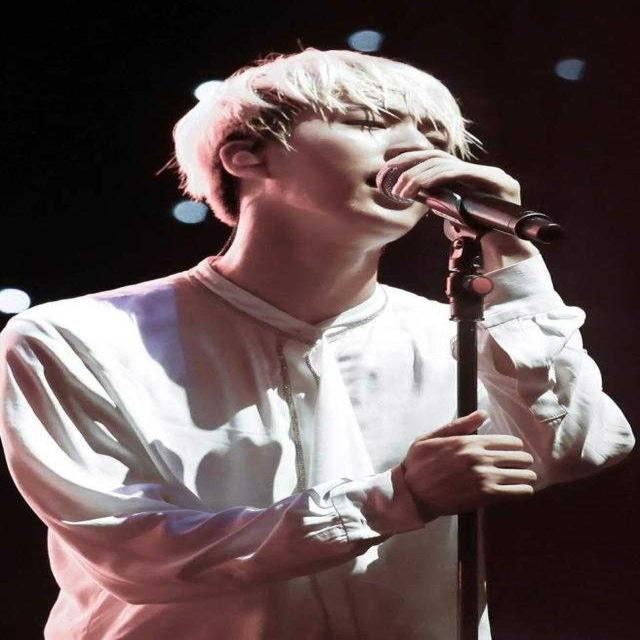microphone: (371, 162, 561, 245)
